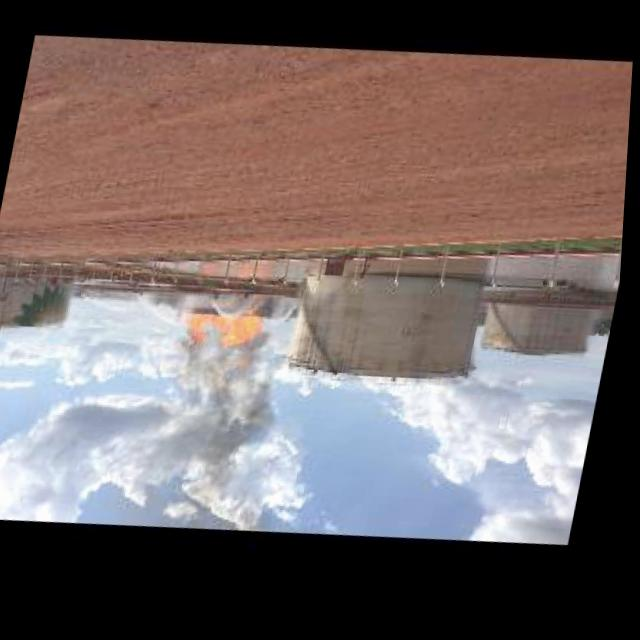helmet: (164, 334, 293, 479), (184, 299, 269, 363)
no_helmet: (177, 305, 272, 374)
